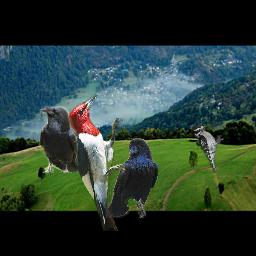Crow: (106, 138, 158, 218), (39, 106, 78, 173)
Woodpecker: (67, 94, 125, 231), (193, 125, 224, 173)
